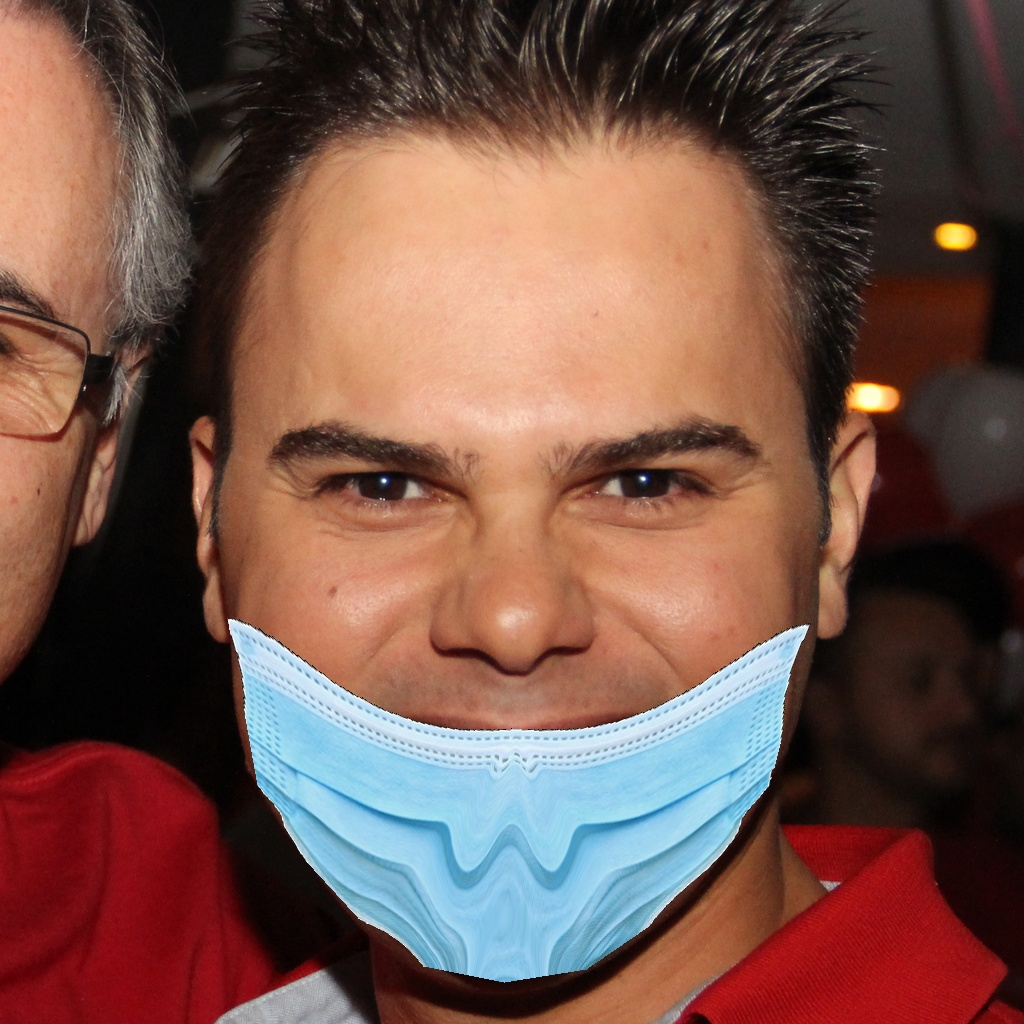mascarilla_mal_puesta: (194, 343, 802, 958)
